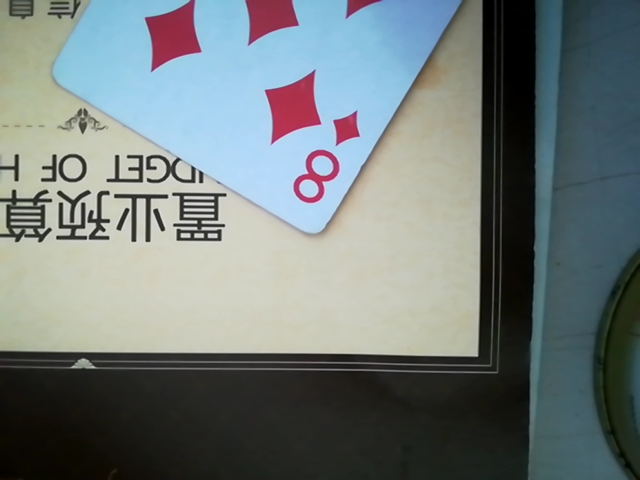fk 8: (38, 4, 548, 236)
